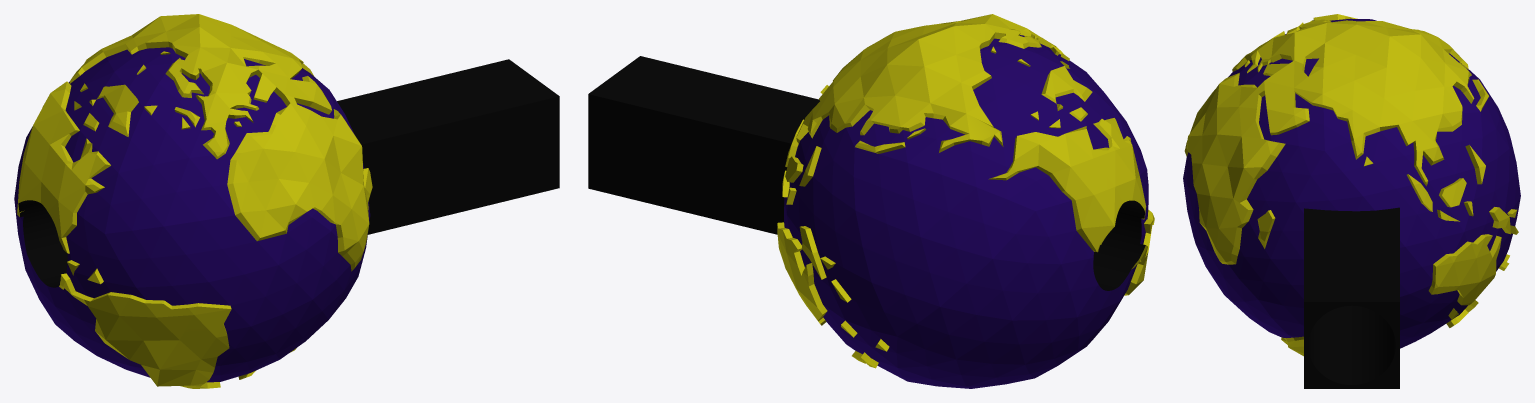
Rendered from earthWork7.glb.
3 views of the same model, side by side, from view 1: azimuth 30°, elevation 25°; view 2: azimuth 150°, elevation 25°; view 3: azimuth 270°, elevation 25° (orthographic). The views are drawn at different scales.
Parts seen in each view (by area): view 1: earth4, Cube; view 2: earth4, Cube; view 3: earth4, Cube.
Boxes of the visible parts, x1,y1,x2,y2 form: earth4: (14,14,372,388); Cube: (337,59,559,234); earth4: (777,14,1154,388); Cube: (588,56,819,234); earth4: (1183,14,1520,356); Cube: (1304,207,1399,388).
Bounding box in the file's own units: 138 × 90.26 × 85.11.
